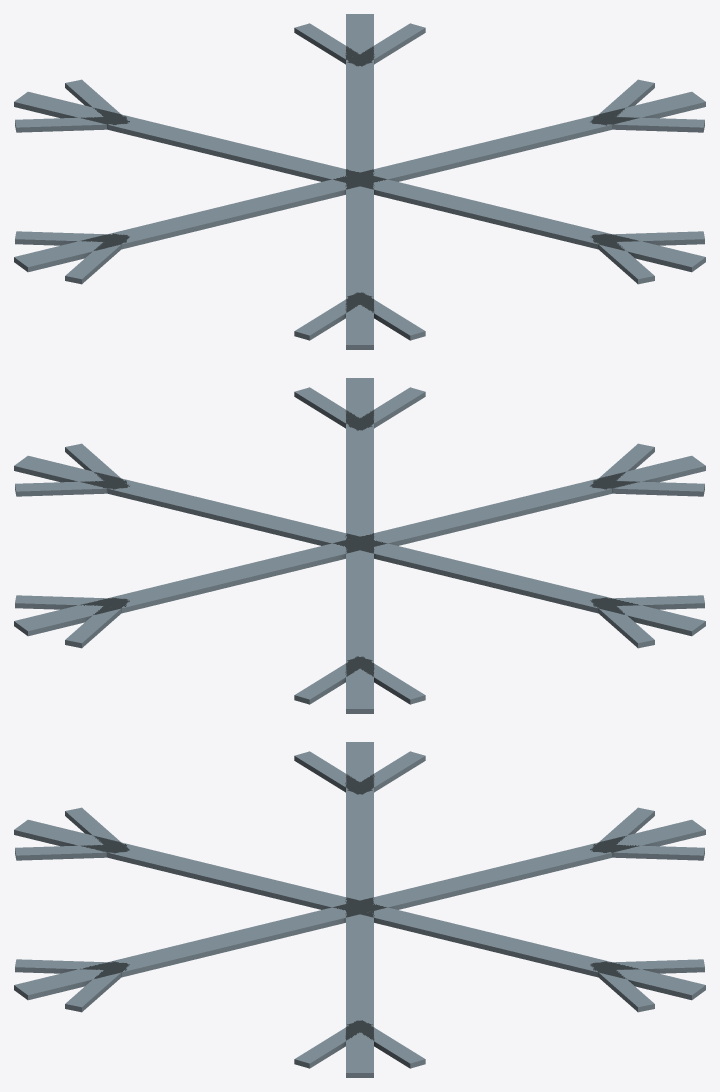
The model's file is trace_santalla.glb.
3 renders of one model, top to bottom at view 1: azimuth 30°, elevation 25°; view 2: azimuth 150°, elevation 25°; view 3: azimuth 270°, elevation 25°, orthographic.
Parts seen in each view (by area): view 1: trace_santalla.001; view 2: trace_santalla.001; view 3: trace_santalla.001.
Boxes of the visible parts, box(x1,y1,x2,y2) form: trace_santalla.001: box(14, 14, 705, 349); trace_santalla.001: box(14, 378, 705, 713); trace_santalla.001: box(14, 742, 705, 1077).
Bounding box in the file's own units: 0.84 × 0.006 × 0.7425.
Materials: 1 (1 with a texture image).
